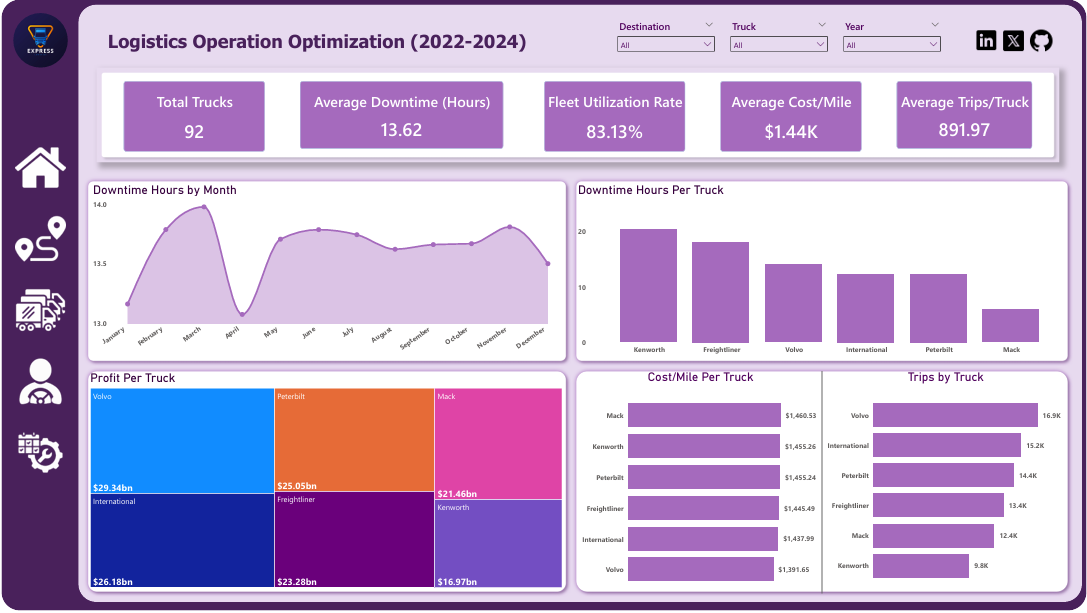

The page's visual inventory and layout, read from the dashboard file:
{"tool":"powerbi","page":{"name":"Fleet Performance","canvas":[1920,1080],"ordinal":2},"visuals":[{"type":"shape","box":[0,0,1920,1080],"z":0},{"type":"shape","box":[168,120,1704,168],"z":0,"group":"g9"},{"type":"card","title":"Total Trucks","fields":{"Values":["Count(logistics_data.truck_id)"]},"box":[216,144,250,124.6],"z":6,"group":"g1"},{"type":"card","title":"Average Downtime (Hours)","fields":{"Values":["Avg(logistics_data.downtime_hours)"]},"box":[528,144,360,120],"z":6,"group":"g2"},{"type":"card","title":"Fleet Utilization Rate","fields":{"Values":["Avg(logistics_data.utilization_rate)"]},"box":[960,144,250,124.6],"z":6,"group":"g3"},{"type":"card","title":"Average Cost/Mile","fields":{"Values":["Avg(logistics_data.cost_per_mile)"]},"box":[1272,144,250,124.6],"z":6,"group":"g5"},{"type":"card","title":"Average Trips/Truck","fields":{"Values":["logistics_data.Avearge Trips/Tuck"]},"box":[1584,144,240,120],"z":6,"group":"g6"},{"type":"shape","box":[136,9,1776,1056],"z":1000},{"type":"group","id":"g1","title":"Group 1","box":[216,144,240,120],"z":1000,"group":"g9"},{"type":"shape","box":[144,312,864,336],"z":1000,"group":"g10"},{"type":"shape","box":[1008,312,888,336],"z":1000,"group":"g8"},{"type":"shape","box":[144,648,864,408],"z":1000,"group":"g4"},{"type":"group","id":"g2","title":"Group 1","box":[528,144,360,120],"z":2000,"group":"g9"},{"type":"shape","box":[1008,648,888,408],"z":2000},{"type":"group","id":"g3","title":"Group 1","box":[960,144,240,120],"z":3000,"group":"g9"},{"type":"group","id":"g4","title":"Group 3","box":[144,648,864,408],"z":3000},{"type":"shape","box":[1008,657.4,888,392.6],"z":3000,"group":"g7"},{"type":"textbox","box":[182.5,47.5,805,80],"z":4000},{"type":"group","id":"g5","title":"Group 1","box":[1272,144,240,120],"z":4000,"group":"g9"},{"type":"image","box":[1765.6,48,50,50],"z":5000},{"type":"group","id":"g6","title":"Group 1","box":[1584,144,240,120],"z":5000,"group":"g9"},{"type":"image","box":[1814.6,48,50,50],"z":6000},{"type":"image","box":[1718.6,48,48,48],"z":7000},{"type":"image","box":[21,24,96,96],"z":8000},{"type":"image","box":[24,252,90,90],"z":9000},{"type":"image","box":[24,504,90,90],"z":10000},{"type":"image","box":[24,630,90,90],"z":11000},{"type":"barChart","title":"Trips by Truck","fields":{"Category":["logistics_data.Truck"],"Y":["CountNonNull(logistics_data.trip_id)"]},"box":[1455,655,432,394.1],"z":11000,"group":"g7"},{"type":"image","box":[24,756,90,90],"z":12000},{"type":"image","box":[24,378,90,90],"z":13000},{"type":"clusteredBarChart","title":"Cost/Mile Per Truck","fields":{"Y":["Avg(logistics_data.cost_per_mile)"],"Category":["logistics_data.Truck"]},"box":[1021,655,432,402.3],"z":13000,"group":"g7"},{"type":"slicer","fields":{"Values":["logistics_data.dispatch_date.Variation.Date Hierarchy.Year"]},"box":[1480,30,192,72],"z":14000},{"type":"slicer","fields":{"Values":["logistics_data.Truck"]},"box":[1280,30,192,72],"z":15000},{"type":"slicer","fields":{"Values":["logistics_data.destination_state"]},"box":[1080,30,192,72],"z":16000},{"type":"treemap","title":"Profit Per Truck","fields":{"Group":["logistics_data.Truck"],"Values":["Sum(logistics_data.profit)"]},"box":[152,657,845,387],"z":17000},{"type":"group","id":"g7","title":"Group 1","box":[1008,655,888,402.3],"z":18000},{"type":"group","id":"g8","title":"Group 4","box":[1008,312,888,336],"z":19000},{"type":"group","id":"g9","title":"Group 6","box":[168,120,1704,168],"z":20000},{"type":"group","id":"g10","title":"Group 4","box":[144,312,864,336],"z":21000},{"type":"lineChart","title":"Downtime Hours by Month","fields":{"Category":["logistics_data.dispatch_date.Variation.Date Hierarchy.Month"],"Y":["Avg(logistics_data.downtime_hours)"]},"box":[157,323,842,317],"z":22000},{"type":"columnChart","title":"Downtime Hours Per Truck","fields":{"Category":["logistics_data.Truck"],"Y":["Avg(logistics_data.downtime_hours)"]},"box":[1015,323,880,313],"z":23004,"group":"g8"}]}

Visuals, with their boxes in screenshot pixels (x1, y1, x2, y2), scaled from the page's 1920x1080 canvas onto the 1087x613 screenshot:
shape: <bbox>0, 0, 1086, 612</bbox>
shape: <bbox>95, 68, 1060, 163</bbox>
"Total Trucks" card: <bbox>122, 82, 264, 152</bbox>
"Average Downtime (Hours)" card: <bbox>299, 82, 503, 150</bbox>
"Fleet Utilization Rate" card: <bbox>544, 82, 685, 152</bbox>
"Average Cost/Mile" card: <bbox>720, 82, 862, 152</bbox>
"Average Trips/Truck" card: <bbox>897, 82, 1033, 150</bbox>
shape: <bbox>77, 5, 1082, 604</bbox>
"Group 1" group: <bbox>122, 82, 258, 150</bbox>
shape: <bbox>82, 177, 571, 368</bbox>
shape: <bbox>571, 177, 1073, 368</bbox>
shape: <bbox>82, 368, 571, 599</bbox>
"Group 1" group: <bbox>299, 82, 503, 150</bbox>
shape: <bbox>571, 368, 1073, 599</bbox>
"Group 1" group: <bbox>544, 82, 679, 150</bbox>
"Group 3" group: <bbox>82, 368, 571, 599</bbox>
shape: <bbox>571, 373, 1073, 596</bbox>
textbox: <bbox>103, 27, 559, 72</bbox>
"Group 1" group: <bbox>720, 82, 856, 150</bbox>
image: <bbox>1000, 27, 1028, 56</bbox>
"Group 1" group: <bbox>897, 82, 1033, 150</bbox>
image: <bbox>1027, 27, 1056, 56</bbox>
image: <bbox>973, 27, 1000, 54</bbox>
image: <bbox>12, 14, 66, 68</bbox>
image: <bbox>14, 143, 65, 194</bbox>
image: <bbox>14, 286, 65, 337</bbox>
image: <bbox>14, 358, 65, 409</bbox>
"Trips by Truck" barChart: <bbox>824, 372, 1068, 595</bbox>
image: <bbox>14, 429, 65, 480</bbox>
image: <bbox>14, 215, 65, 266</bbox>
"Cost/Mile Per Truck" clusteredBarChart: <bbox>578, 372, 823, 600</bbox>
slicer - logistics_data.dispatch_date.Variation.Date Hierarchy.Year: <bbox>838, 17, 947, 58</bbox>
slicer - logistics_data.Truck: <bbox>725, 17, 833, 58</bbox>
slicer - logistics_data.destination_state: <bbox>611, 17, 720, 58</bbox>
"Profit Per Truck" treemap: <bbox>86, 373, 564, 593</bbox>
"Group 1" group: <bbox>571, 372, 1073, 600</bbox>
"Group 4" group: <bbox>571, 177, 1073, 368</bbox>
"Group 6" group: <bbox>95, 68, 1060, 163</bbox>
"Group 4" group: <bbox>82, 177, 571, 368</bbox>
"Downtime Hours by Month" lineChart: <bbox>89, 183, 566, 363</bbox>
"Downtime Hours Per Truck" columnChart: <bbox>575, 183, 1073, 361</bbox>
